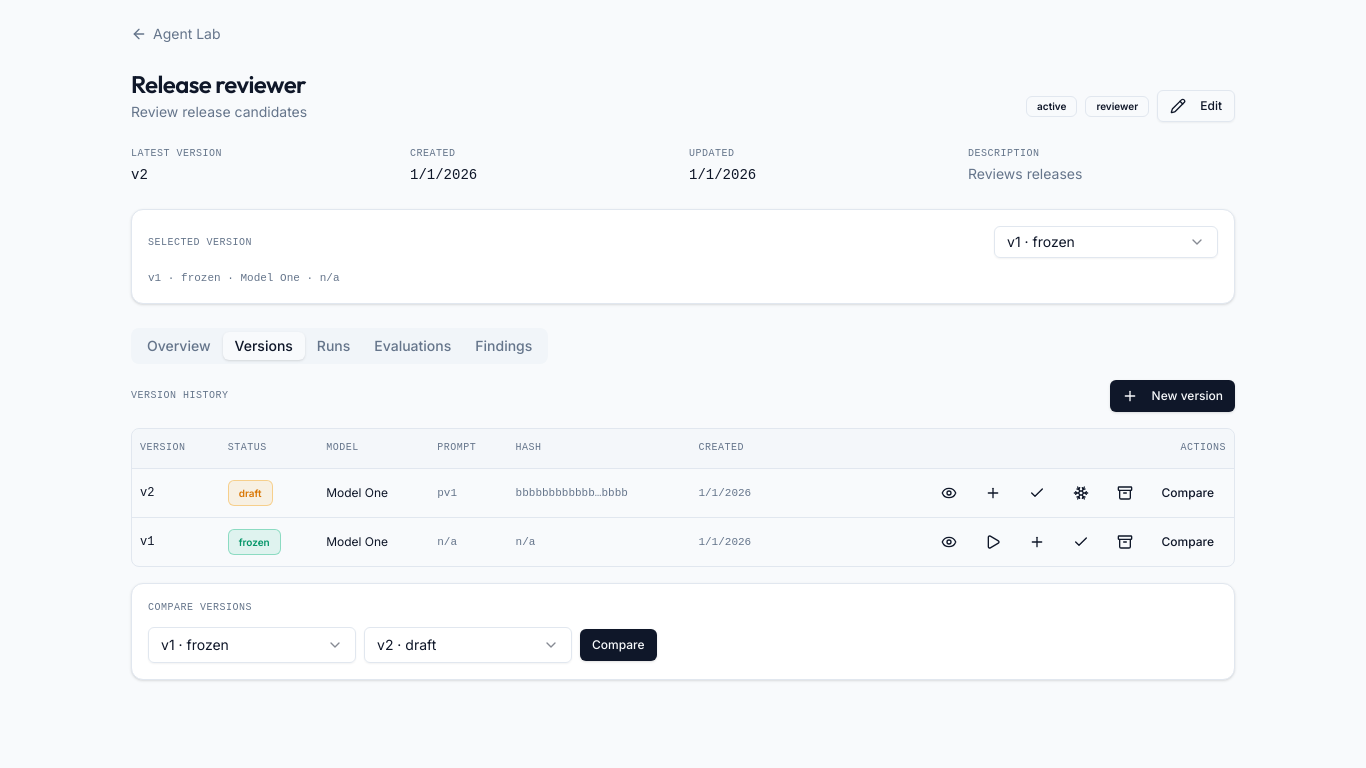
Test: a denied tool renders a permission denial row with resource and reason
This screenshot has width=1366, height=768.
Click the button with test id "agent-run-open".
click(994, 542)  # box left=974, top=526, right=1014, bottom=558
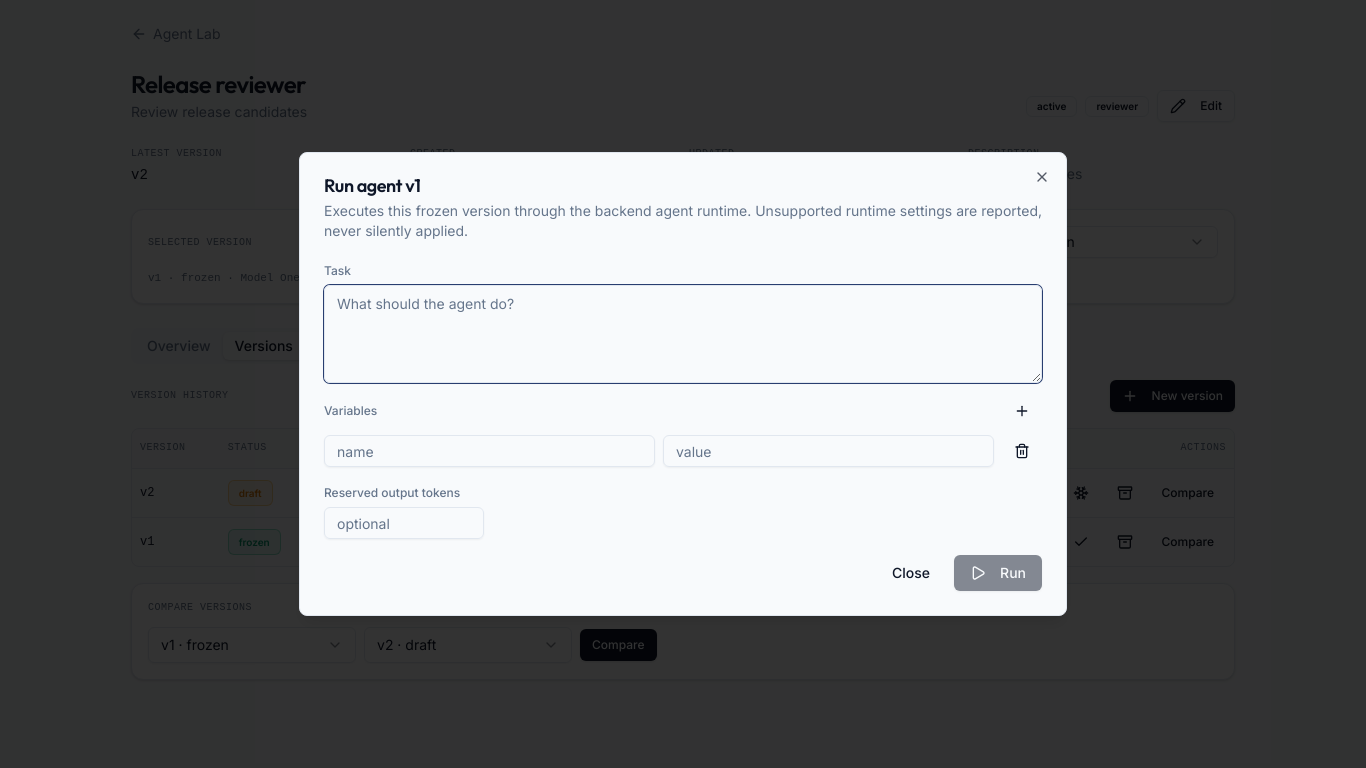
Now the dialog with test id "agent-run-dialog" is shown, box left=299, top=152, right=1067, bottom=616
Type "Check permissions" into the text box with test id "agent-run-task".
click(683, 334); type("Check permissions")  # box left=324, top=285, right=1042, bottom=383
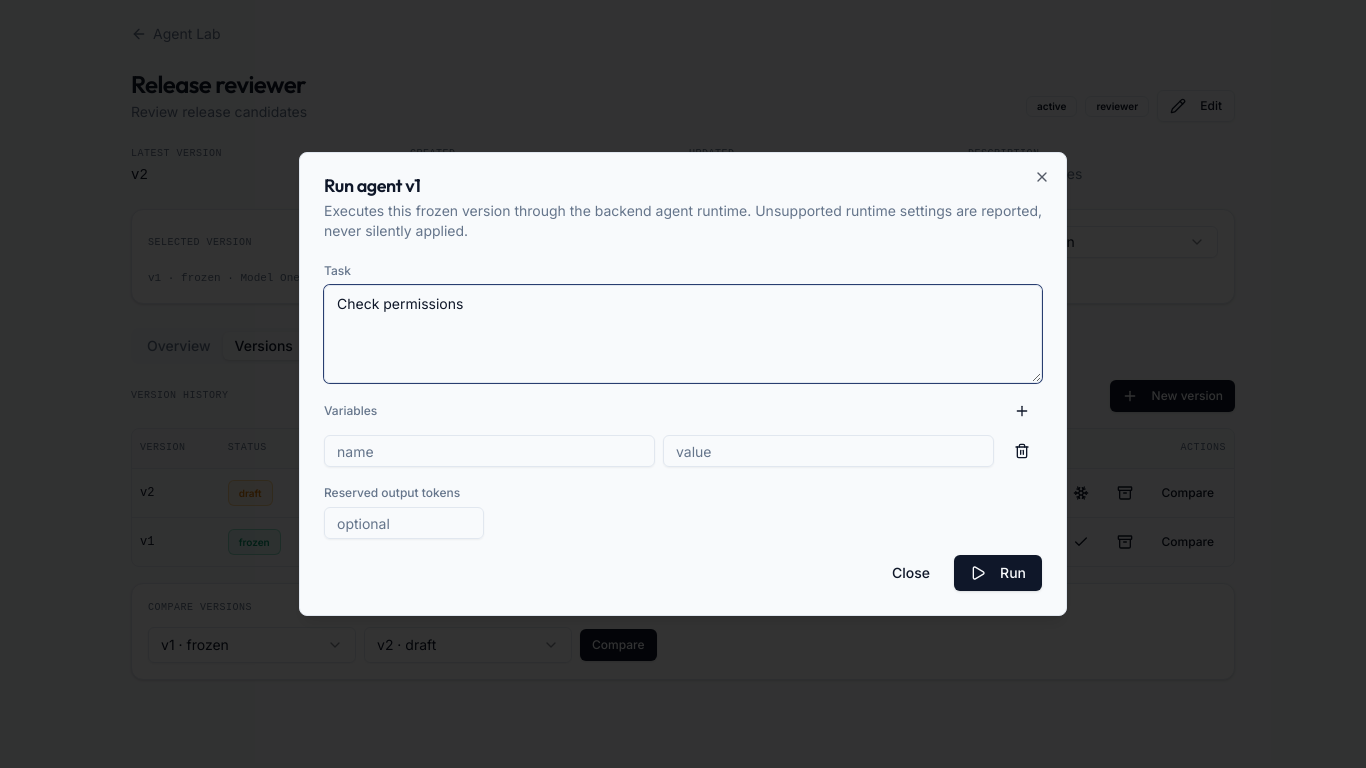
Click the button with test id "agent-run-submit".
click(998, 573)  # box left=954, top=555, right=1042, bottom=591
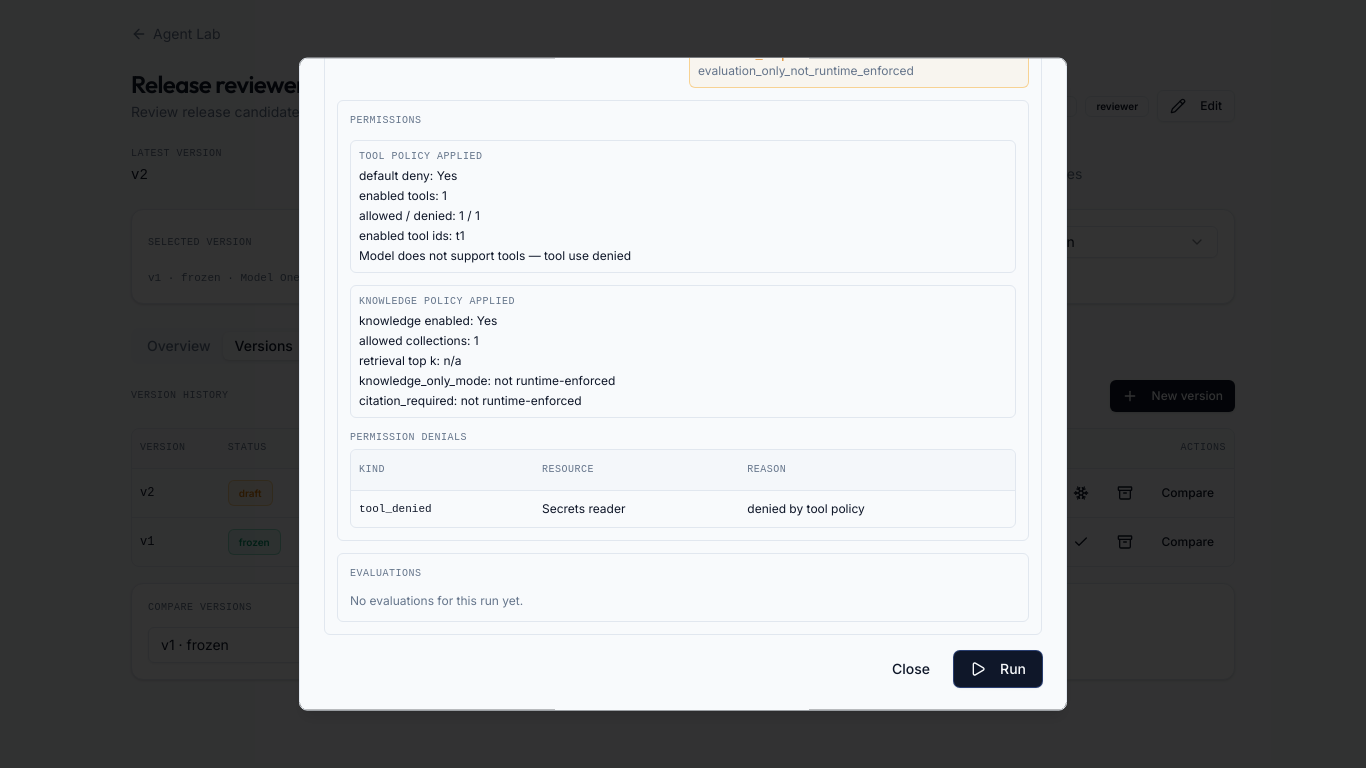
Now the row with test id "agent-run-denial-row" shows "tool_denied", box left=359, top=502, right=432, bottom=514
Now the row with test id "agent-run-denial-row" shows "Secrets reader", box left=542, top=500, right=625, bottom=515
Now the row with test id "agent-run-denial-row" shows "denied by tool policy", box left=747, top=500, right=865, bottom=515
